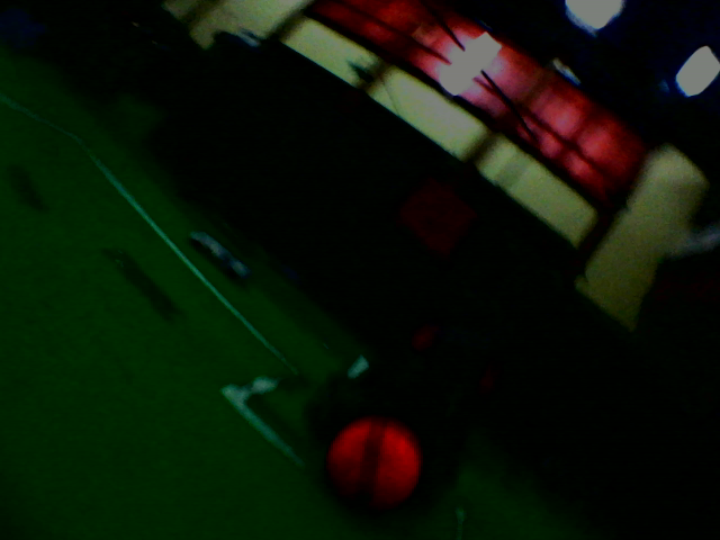bola: (319, 413, 425, 514)
